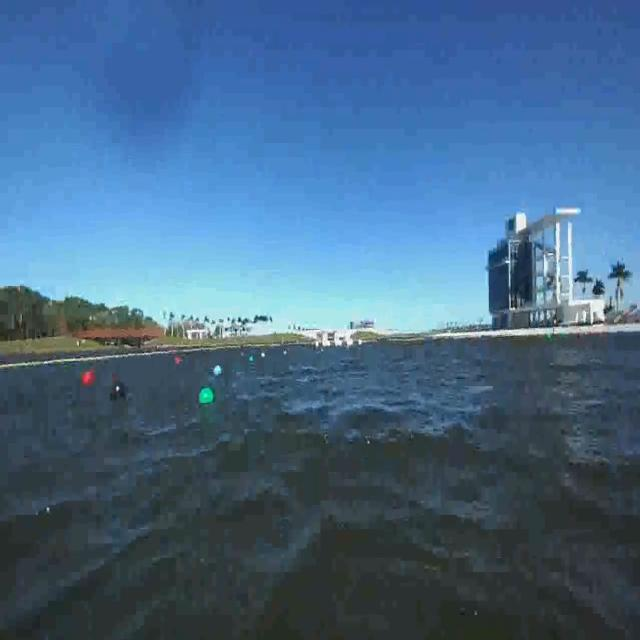black-buoy: (110, 382, 125, 403)
green-buoy: (201, 387, 215, 405), (214, 360, 222, 376)
red-buoy: (82, 370, 94, 385)
